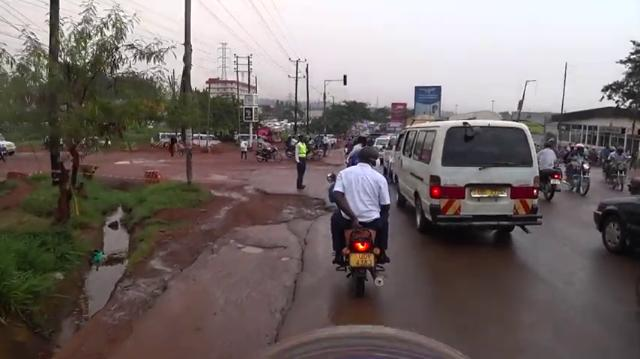motorcycle: (327, 179, 394, 300), (534, 151, 568, 207), (563, 152, 590, 196), (257, 145, 283, 163), (602, 159, 618, 186)
van: (391, 118, 543, 234)
